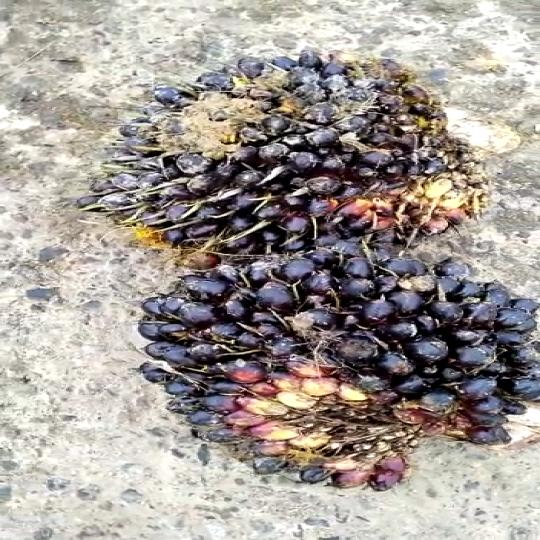mentah: (135, 250, 540, 501), (59, 70, 513, 268)
